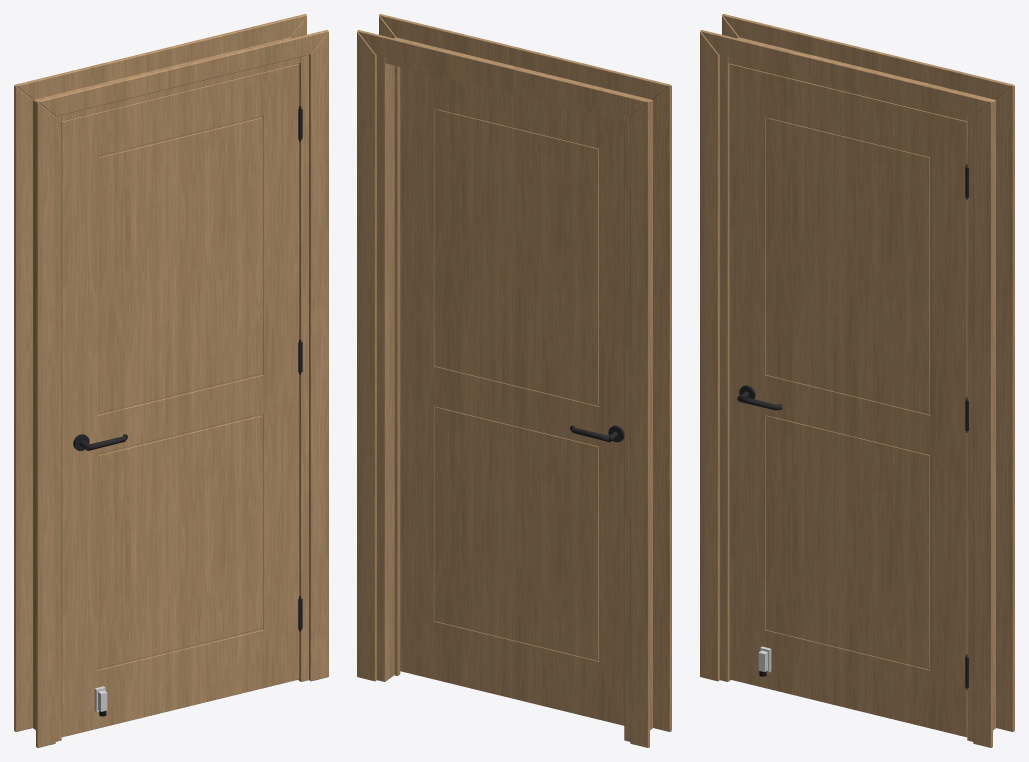
File: door_room_r.glb
3 views of the same model, side by side, from view 1: azimuth 30°, elevation 25°; view 2: azimuth 150°, elevation 25°; view 3: azimuth 330°, elevation 25° (orthographic).
Visible parts, largest first — view 1: door_room_r_leaf_body, door_room_r_casing, door_room_r_frame, door_room_r_handle; view 2: door_room_r_leaf_body, door_room_r_casing, door_room_r_frame; view 3: door_room_r_leaf_body, door_room_r_casing, door_room_r_frame, door_room_r_handle.
Boxes of the visible parts, bbox=[...] form: door_room_r_leaf_body: bbox=[61, 63, 299, 737]; door_room_r_casing: bbox=[14, 14, 328, 747]; door_room_r_frame: bbox=[33, 37, 308, 741]; door_room_r_handle: bbox=[73, 434, 127, 716]; door_room_r_leaf_body: bbox=[400, 67, 624, 725]; door_room_r_casing: bbox=[357, 14, 671, 747]; door_room_r_frame: bbox=[377, 37, 652, 741]; door_room_r_leaf_body: bbox=[729, 63, 967, 737]; door_room_r_casing: bbox=[700, 14, 1014, 747]; door_room_r_frame: bbox=[720, 37, 995, 741]; door_room_r_handle: bbox=[737, 385, 782, 676].
Bounding box in the file's own units: 1.02 × 2.16 × 0.1848.
4 materials, 1 textured.
